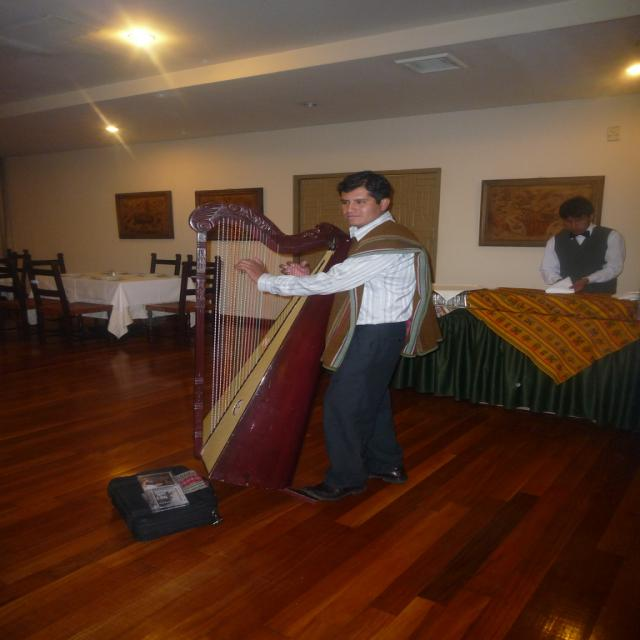harp: (180, 197, 346, 491)
